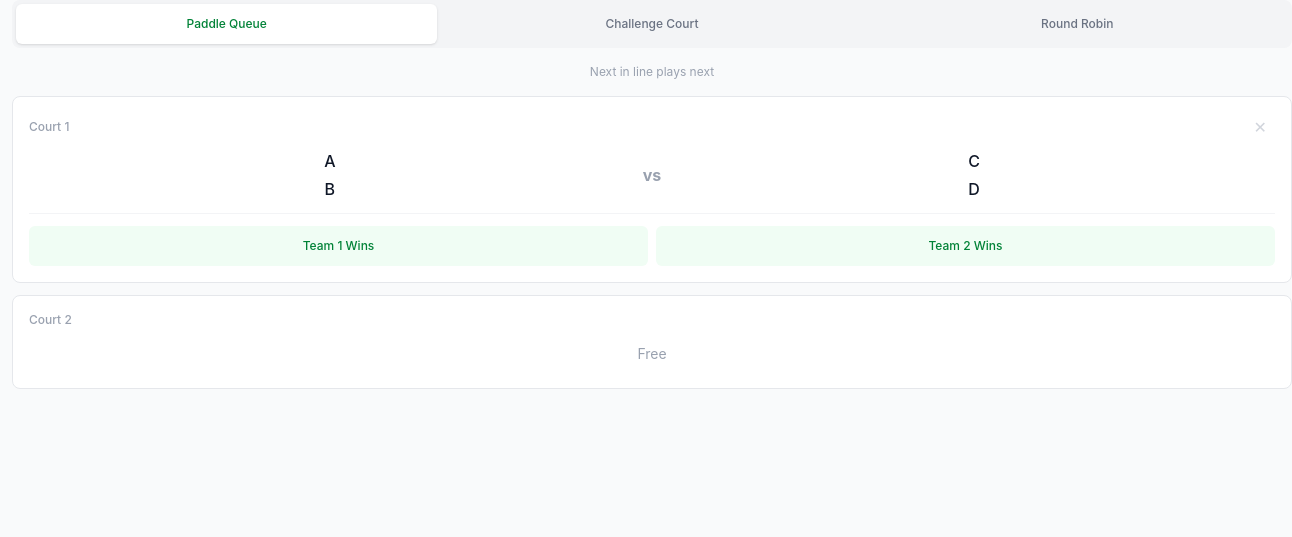
Test: MatchupsTab courts › cancel returns players and records nothing after confirm
Click the button named "Cancel game on court 1". click: (1260, 127)
box: [1246, 113, 1275, 141]
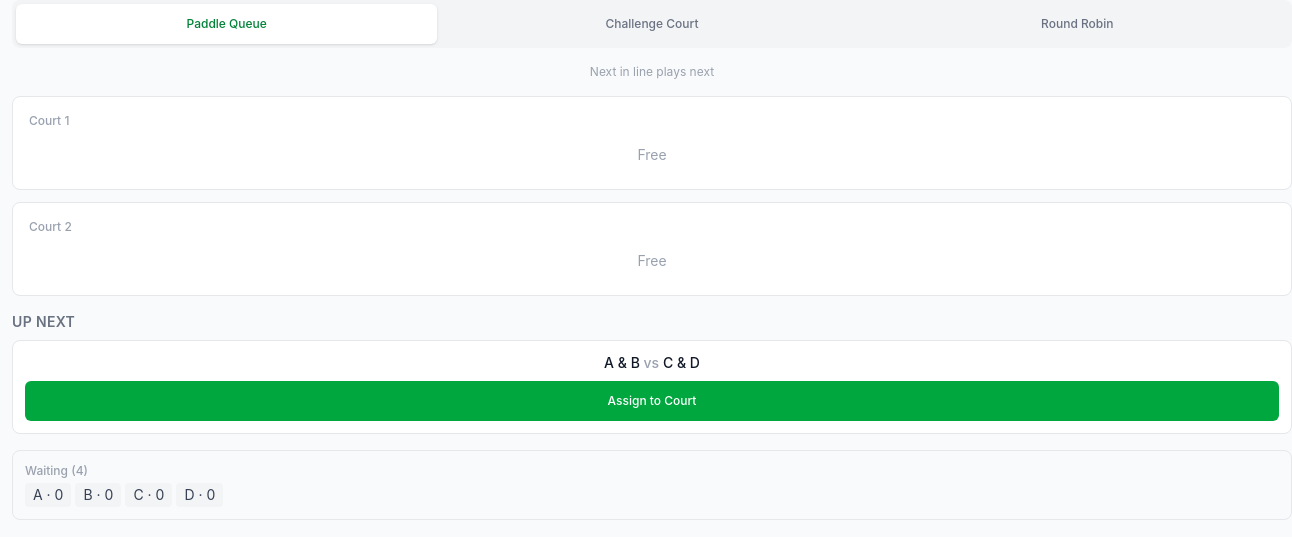
expect the 1st text "Free" is shown: met, box [637, 146, 667, 163]
